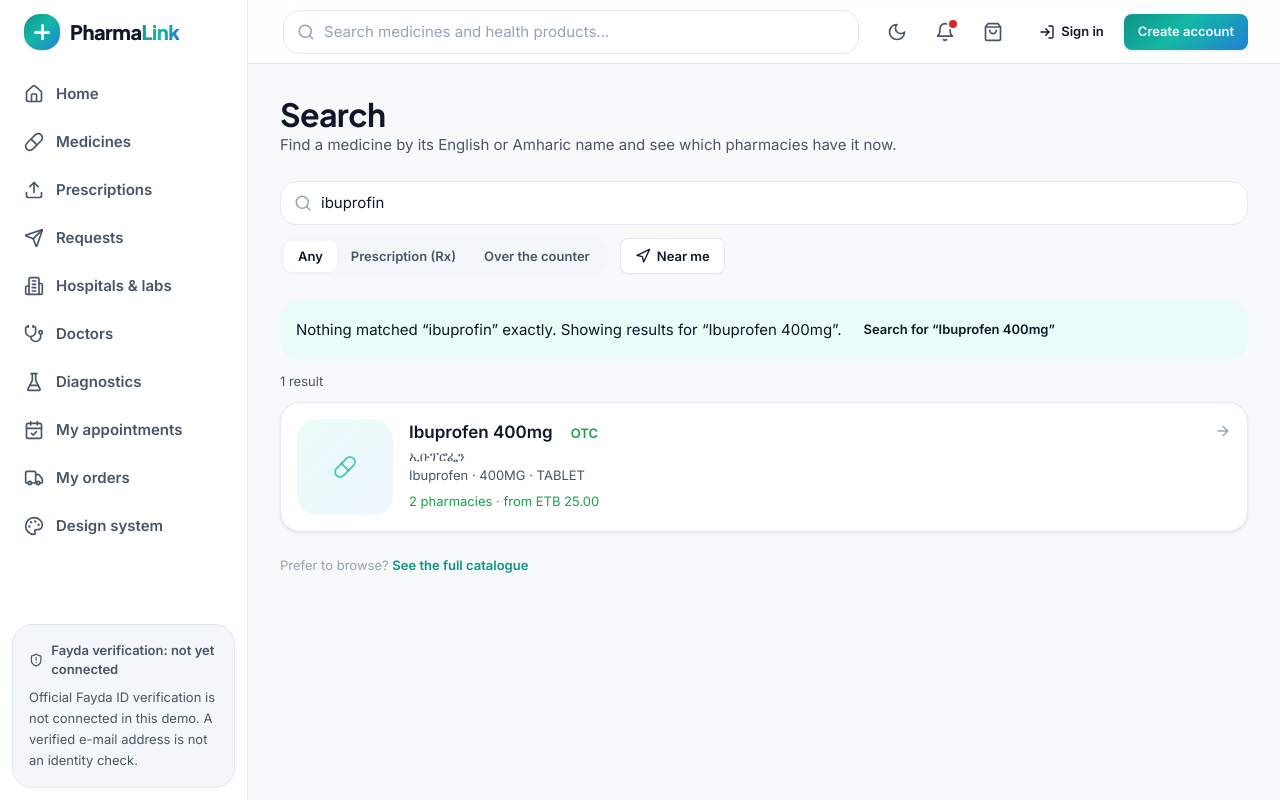
Test: suggestions, close spellings and popular searches (Work 159) › says when results are for a close spelling, and can search for that name
The width and height of the screenshot is (1280, 800).
Expected: the text "Nothing matched “ibuprofin” exactly. Showing results for “Ibuprofen 400mg”." is shown, top-left (296, 318), bottom-right (842, 342)
Click the button "Search for “Ibuprofen 400mg”": (959, 330) top-left (850, 312), bottom-right (1069, 348)
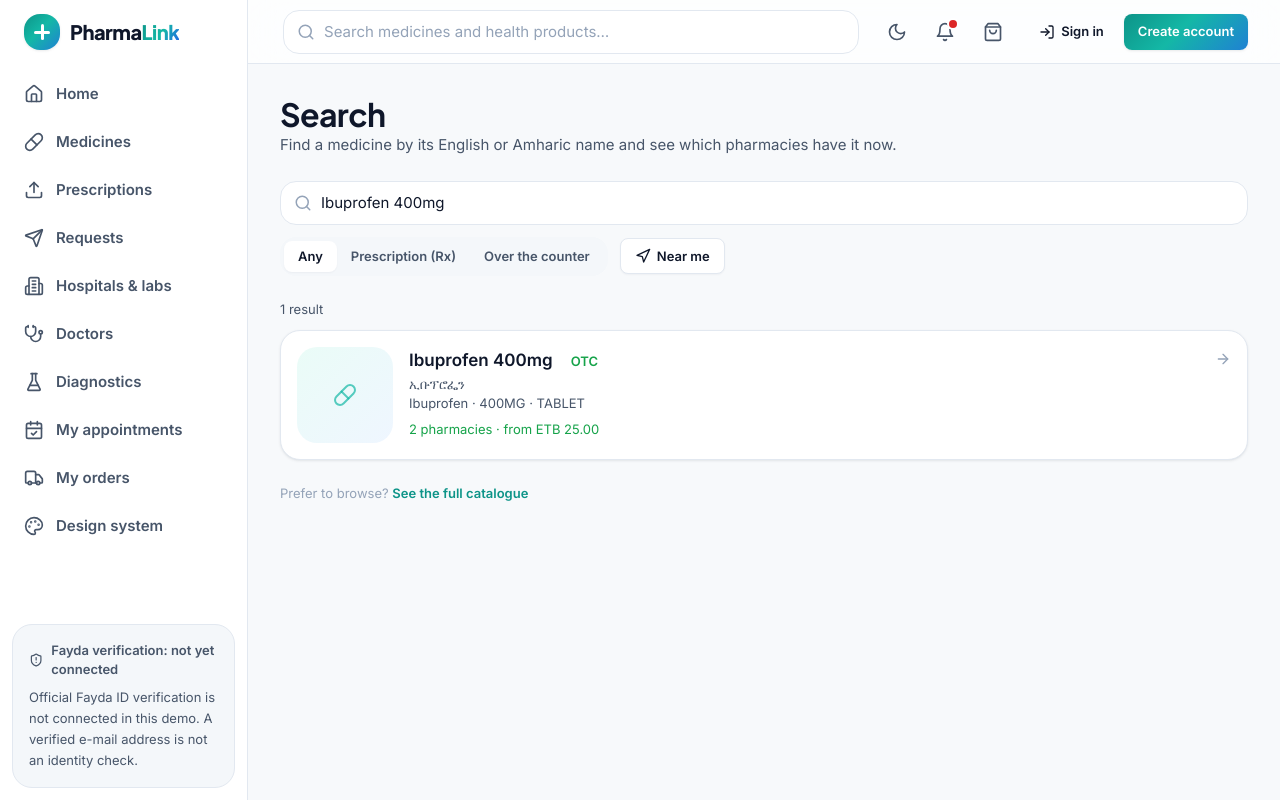
Expected: the text "Showing results for" is gone
Expected: the dropdown named "Search medicines" holds "Ibuprofen 400mg", top-left (280, 181), bottom-right (1248, 225)
